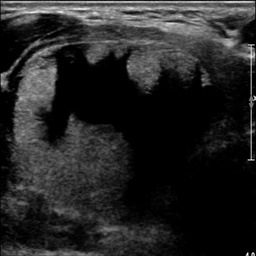mass: (12, 44, 224, 229)
